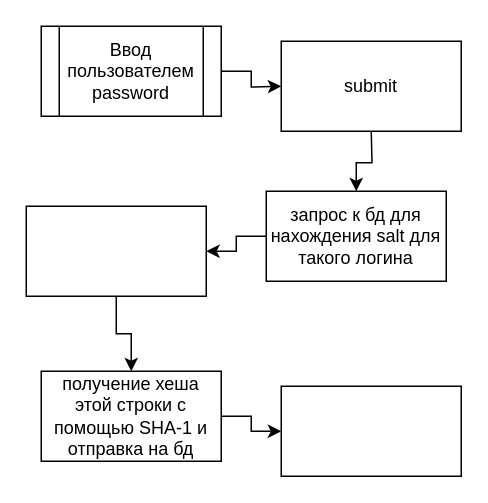
Image size: 488x503. Some labels were removed from this diagram. The centre of each missing label's shape, as x and y in pixels:
конкатенация password + salt: (115,250)
сранение хеша в бд с полученным хешом: (370,430)
